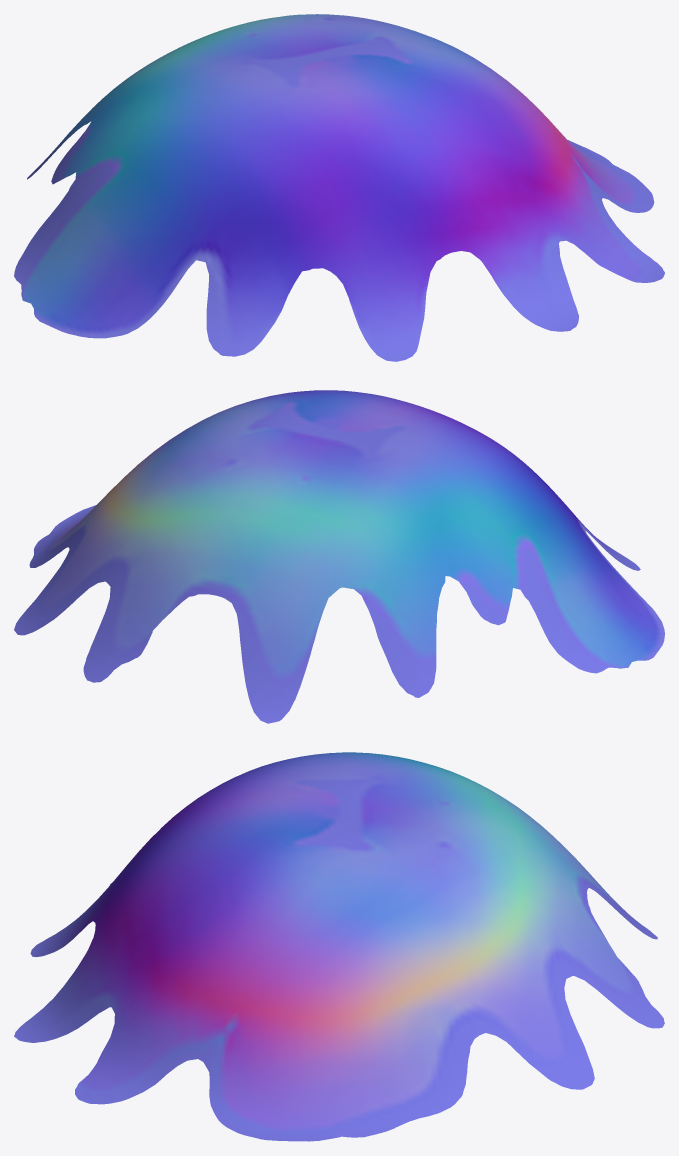
Rendered from 顶点模型测试 1.fbx.
3 views of the same model, one above another, from view 1: azimuth 30°, elevation 25°; view 2: azimuth 150°, elevation 25°; view 3: azimuth 270°, elevation 25° (orthographic). The views are drawn at different scales.
Parts seen in each view (by area): view 1: 平面.001; view 2: 平面.001; view 3: 平面.001.
Boxes of the visible parts, x1=… form: 平面.001: x1=14, y1=14, x2=664, y2=361; 平面.001: x1=14, y1=390, x2=664, y2=723; 平面.001: x1=14, y1=752, x2=664, y2=1141.
Size of what is drawn, in the model's own units: 156 by 44.68 by 141.
